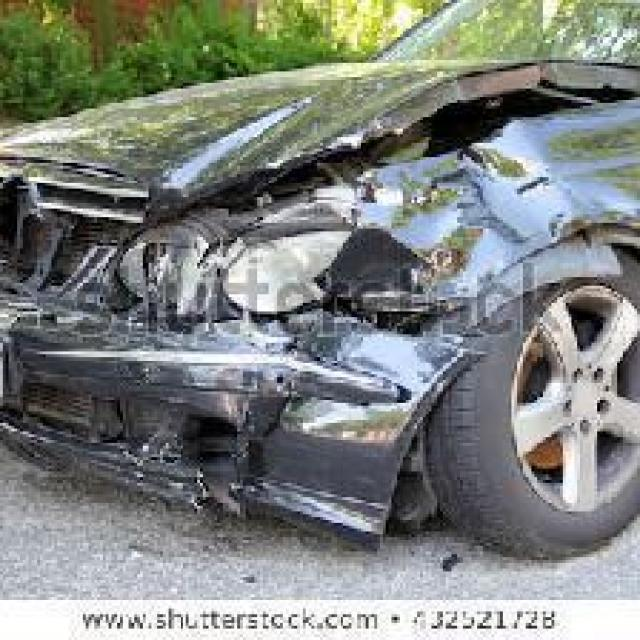damaged: (12, 69, 638, 538)
